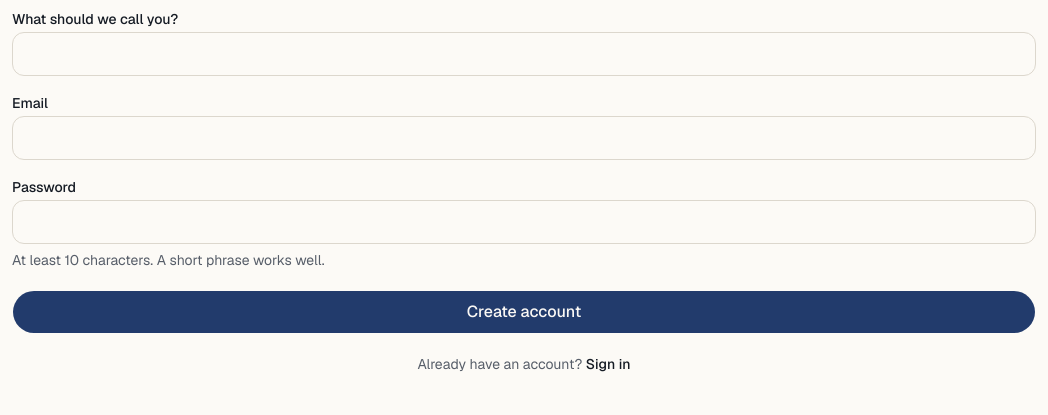
Test case: RegisterForm › puts server field errors on the matching field
Type "Maya" into the field labelled "What should we call you?" at point(524, 54), box [12, 32, 1036, 76]
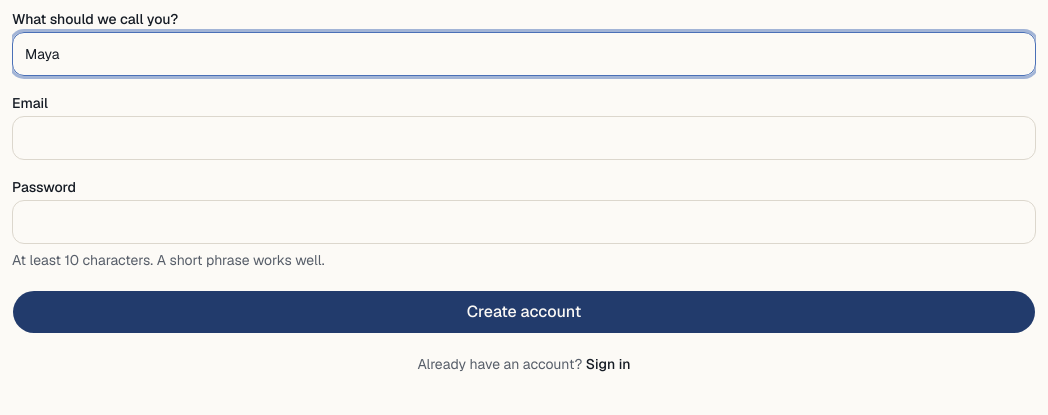
Type "maya@example.com" into the field labelled "Email" at point(524, 138), box [12, 116, 1036, 160]
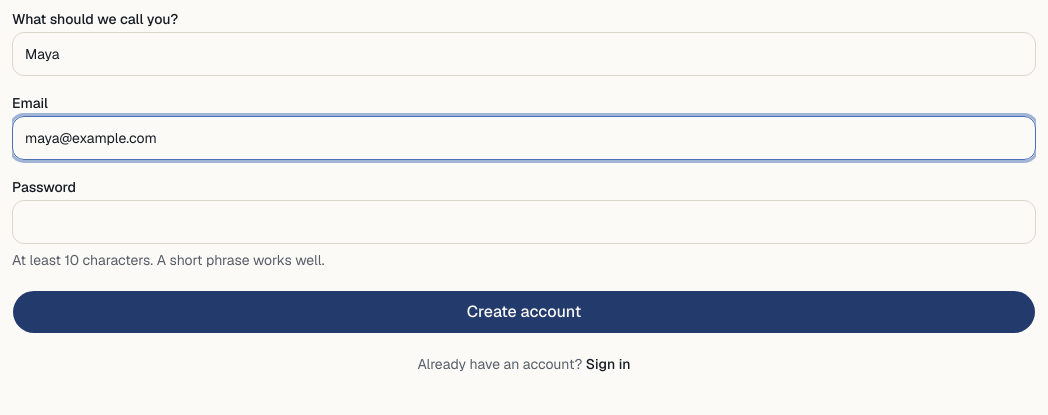
Type "correct-horse-battery-7" into the password field labelled "Password" at point(524, 222), box [12, 200, 1036, 244]
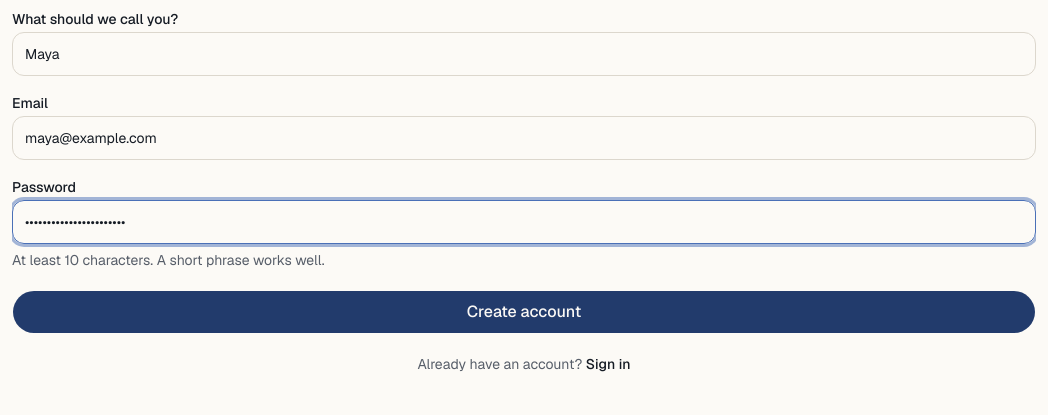
Click the button "Create account" at point(524, 312), box [12, 290, 1036, 334]
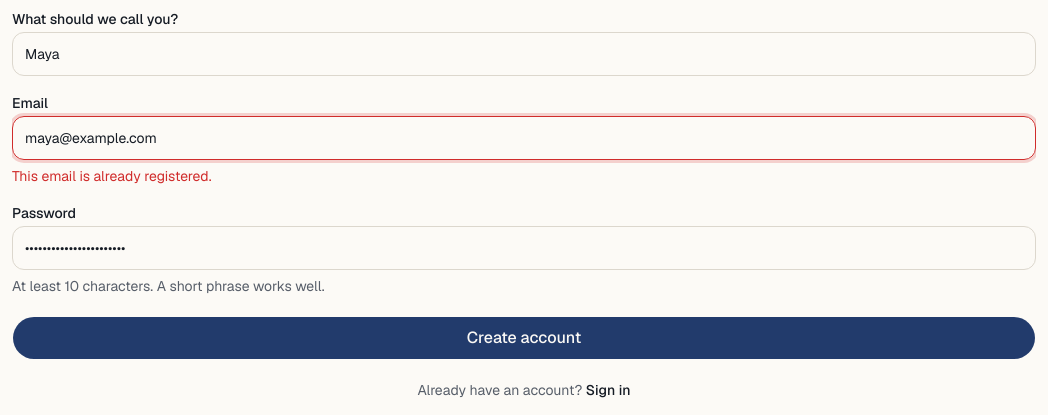
Now the text "This email is already registered." is shown, box [12, 167, 212, 185]
